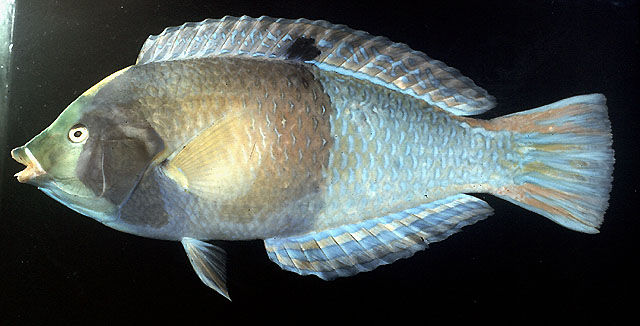fish: (12, 14, 615, 299)
